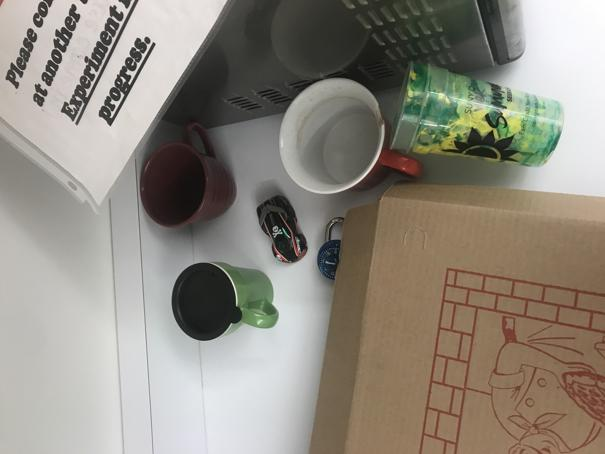Skull: (256, 195, 311, 264)
